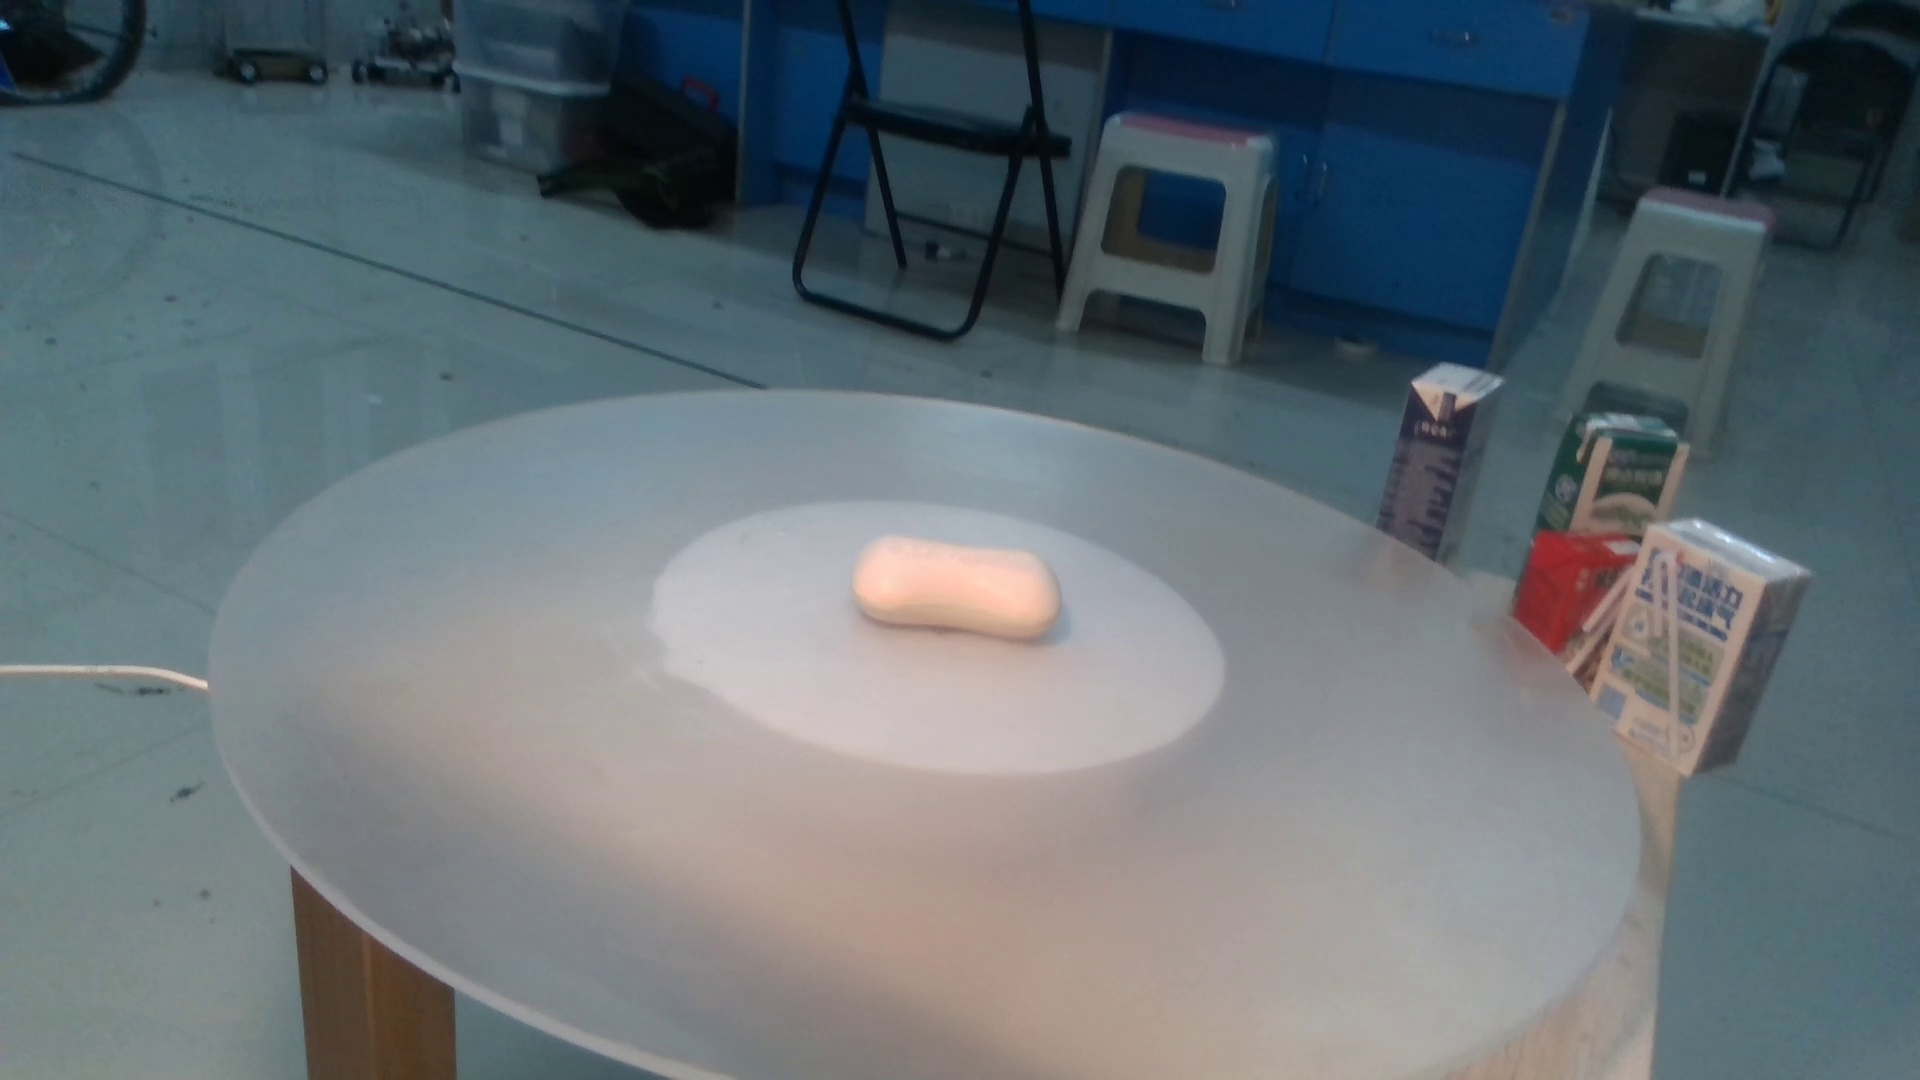CA003_1: (800, 505, 1098, 682)
